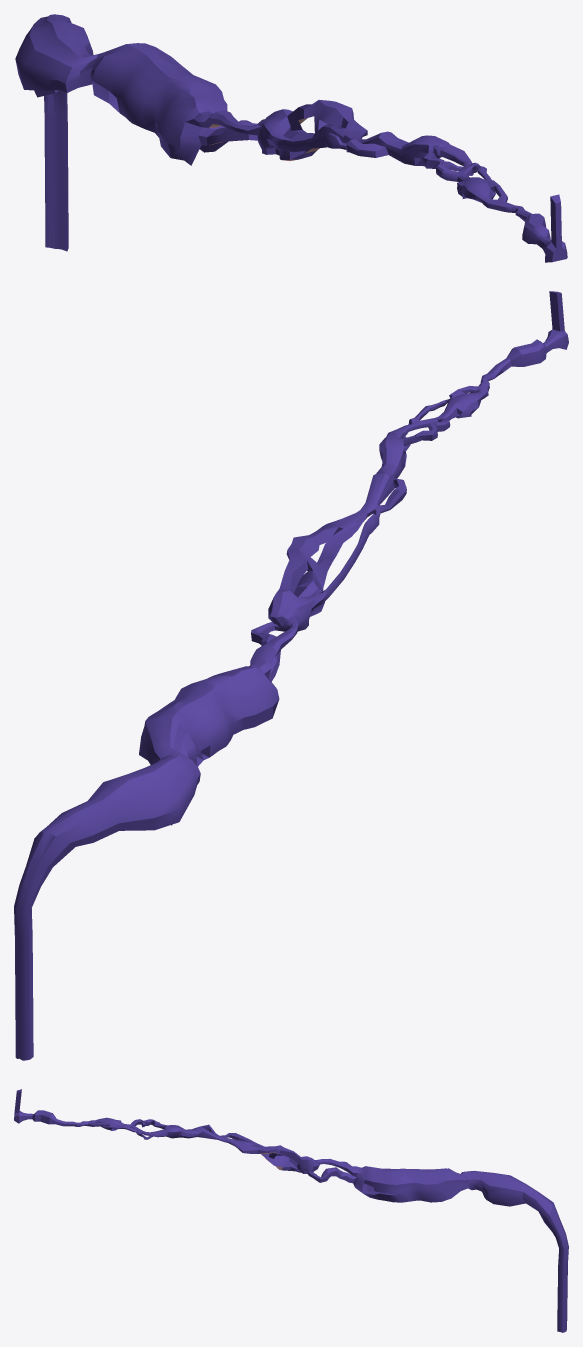
Rendered from Tunnel_5.fbx.
The picture shows the model from 3 angles, top to bottom: view 1: azimuth 30°, elevation 25°; view 2: azimuth 150°, elevation 25°; view 3: azimuth 270°, elevation 25°; orthographic projection. The views are drawn at different scales.
Visible parts, largest first — view 1: Tunnel_5; view 2: Tunnel_5; view 3: Tunnel_5.
Part boxes in pixels (<box>): Tunnel_5: <box>15,14,567,262</box>; Tunnel_5: <box>14,291,568,1060</box>; Tunnel_5: <box>14,1089,568,1332</box>.
Size of the model in its own units: 13327 by 51643 by 112904.
